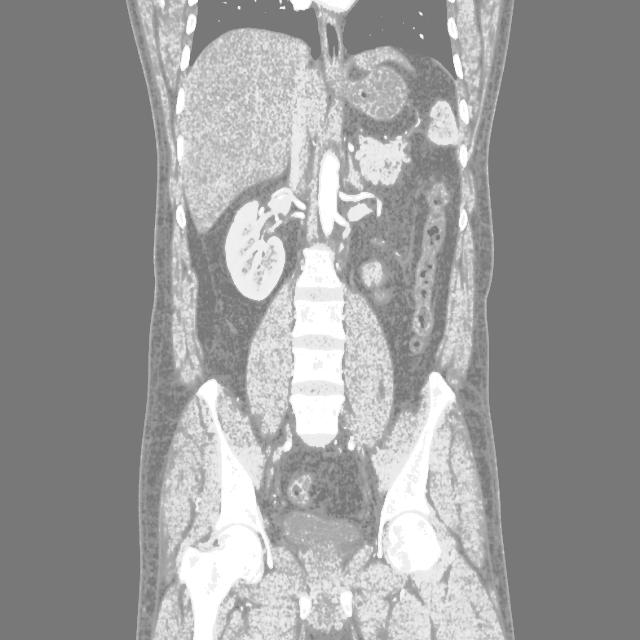NORMAL: (73, 26, 582, 597)
